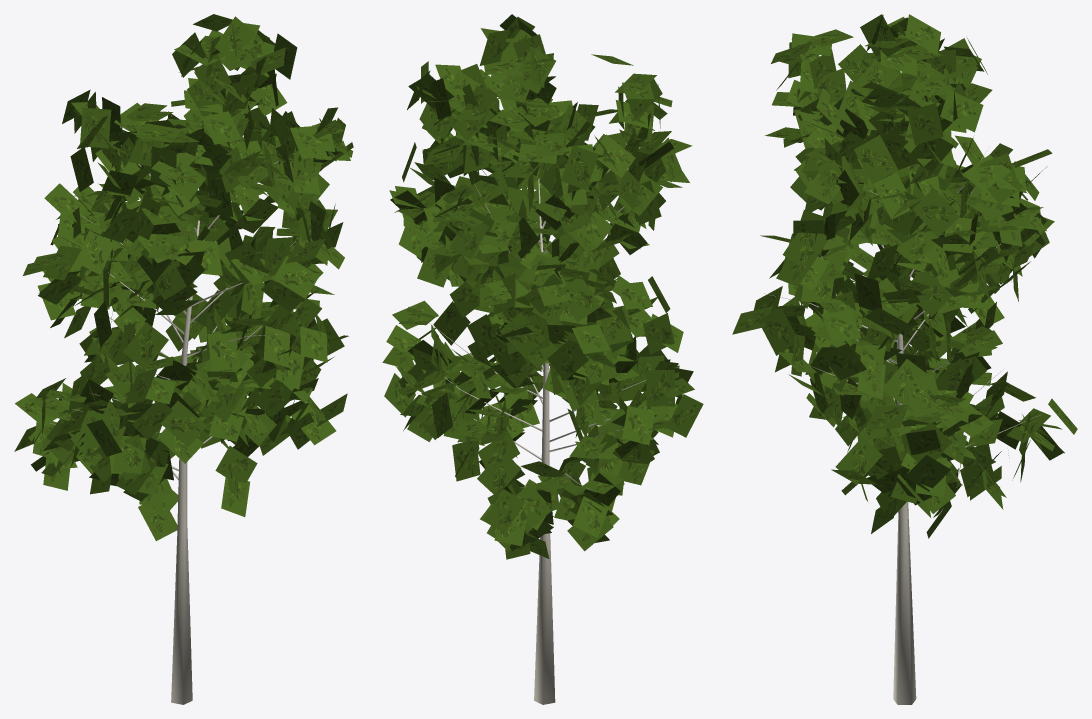
The model's file is near.glb.
3 renders of one model, left to right at view 1: azimuth 30°, elevation 25°; view 2: azimuth 150°, elevation 25°; view 3: azimuth 270°, elevation 25°, orthographic. The views are drawn at different scales.
Visible parts, largest first — view 1: foliage, bark; view 2: foliage, bark; view 3: foliage, bark.
Part boxes in pixels (x1,y1,x2,y2): foliage: (14, 14, 353, 540); bark: (50, 115, 298, 704); foliage: (382, 14, 703, 559); bark: (415, 169, 677, 704); foliage: (732, 14, 1077, 538); bark: (764, 146, 1041, 704).
Bounding box in the file's own units: 14.25 × 31.01 × 13.7.
Materials: 2 (1 with a texture image).
